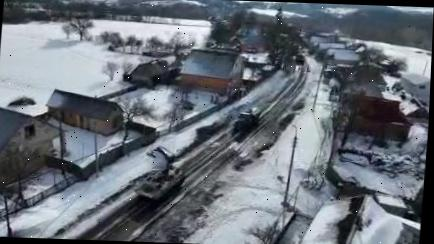tank: (135, 164, 186, 202)
truck: (233, 106, 262, 130), (294, 54, 306, 66)
